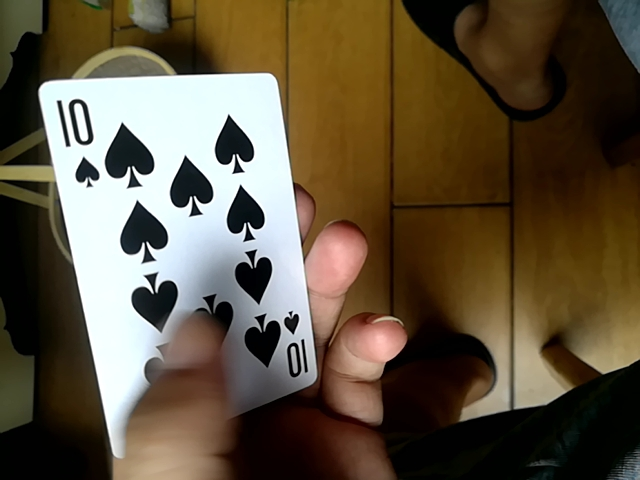ht 10: (38, 64, 310, 410)
